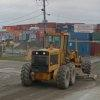Tractor: (12, 27, 94, 100)
